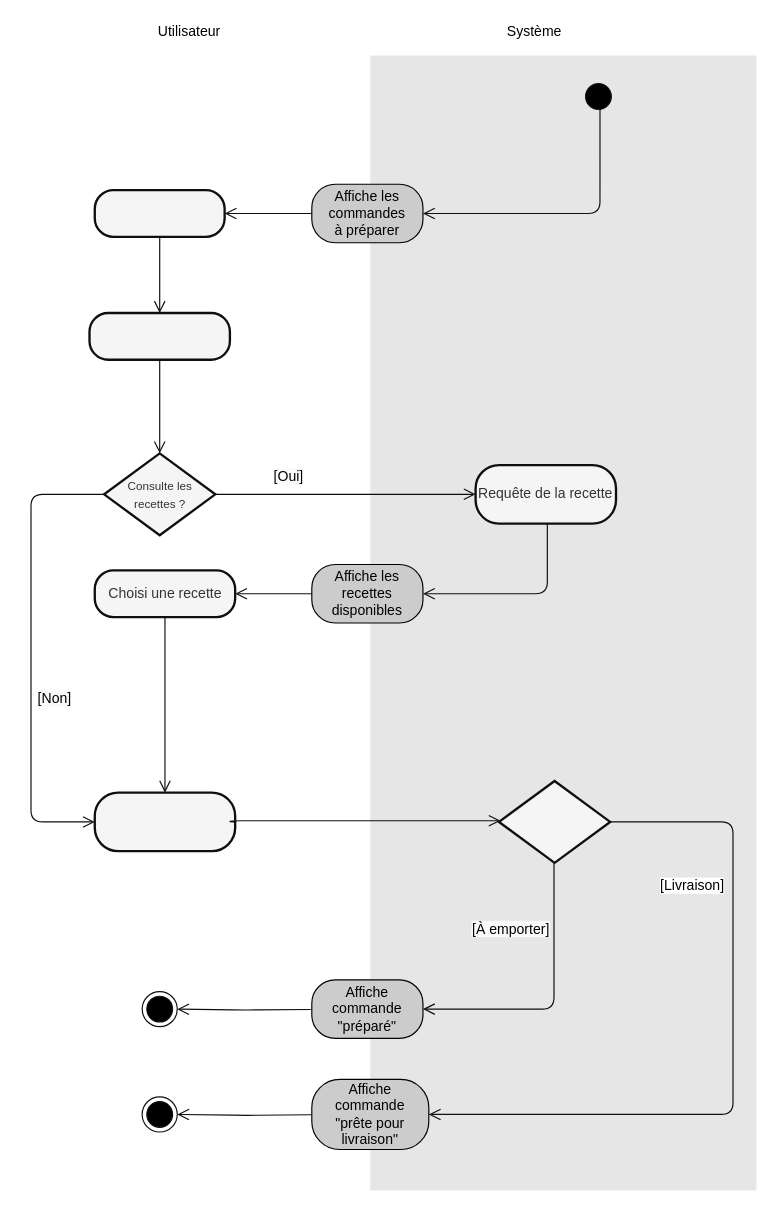
The diagram is 777 pixels wide and 1210 high, and some of its shapes have lost their labels. The centre of each missing label's shape, as x and y in pixels:
Informe de la fin de préparation: [164,821]
Livraison ou à emporter: [554,821]
Place la commande "en préparation": [159,335]
Sélectionne une commande: [159,213]
